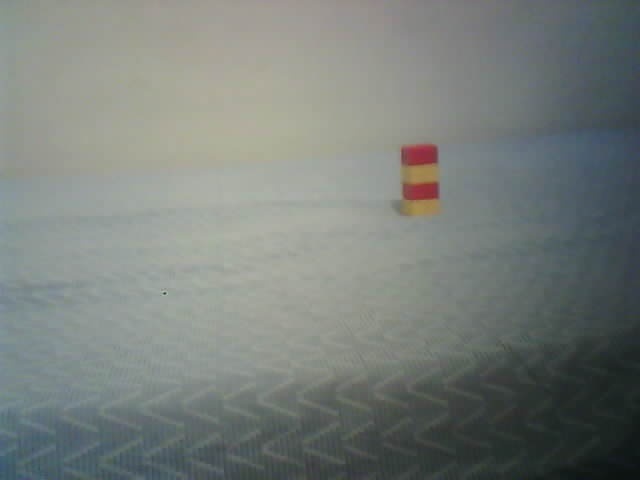lego: (398, 142, 441, 218)
